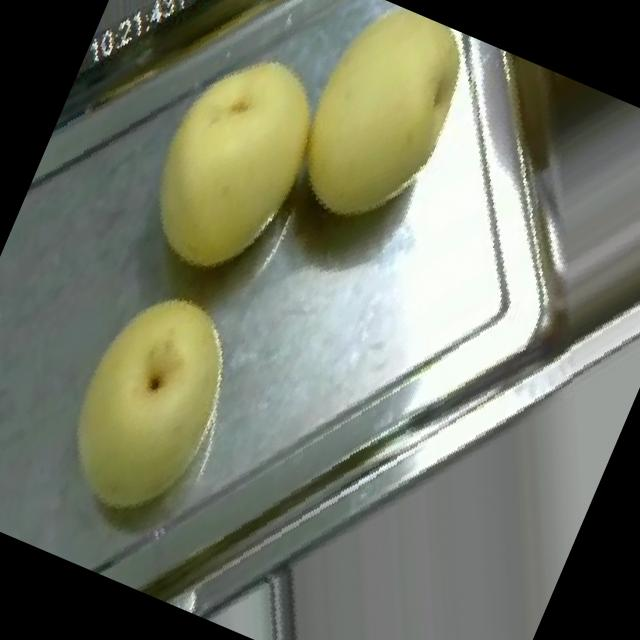Fruit: (0, 241, 296, 570), (85, 0, 372, 319), (242, 0, 509, 265)
